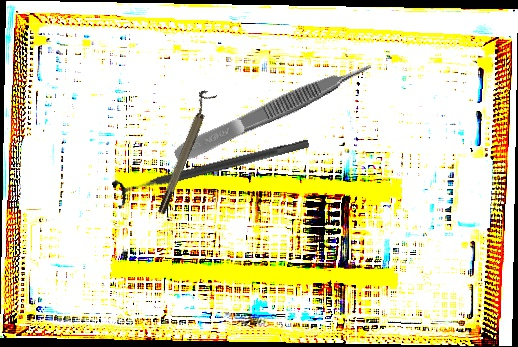Fixation Ring: (111, 128, 313, 211), (150, 88, 218, 216)
Tissue Forceps: (170, 57, 377, 166)
